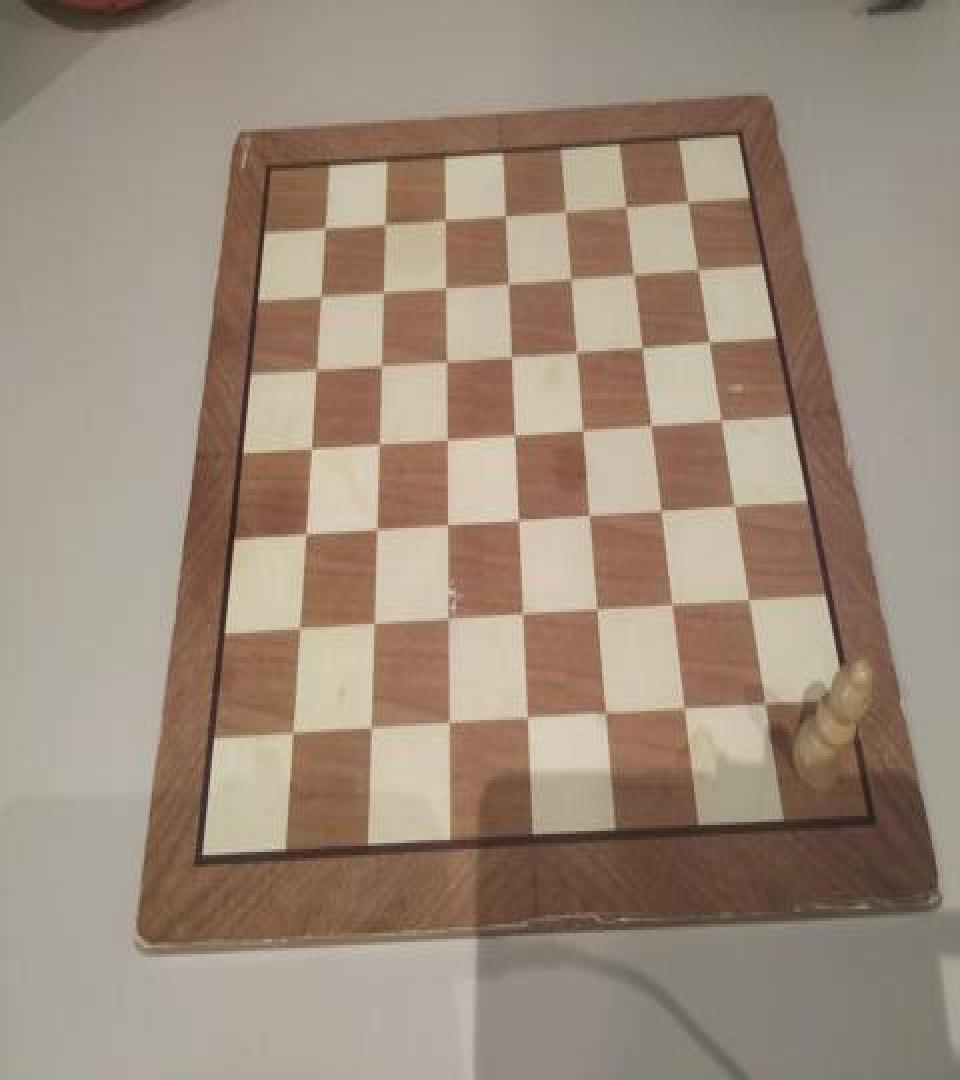xcorner: (298, 430, 320, 464), (366, 424, 388, 458), (433, 268, 455, 302), (433, 340, 455, 374), (493, 196, 515, 230), (496, 262, 518, 296), (506, 502, 528, 536), (578, 496, 600, 530), (710, 400, 732, 434), (304, 351, 326, 384), (285, 612, 307, 645), (278, 717, 300, 750), (371, 273, 393, 306), (368, 345, 390, 378), (356, 713, 378, 746), (433, 201, 455, 234), (434, 420, 456, 453), (434, 507, 456, 540), (434, 603, 456, 636), (435, 708, 457, 741), (499, 336, 521, 369), (510, 597, 532, 630), (554, 192, 576, 225), (559, 258, 581, 291), (585, 592, 607, 625), (614, 186, 636, 219), (640, 405, 662, 438), (650, 492, 672, 525), (661, 588, 683, 621), (674, 693, 696, 726), (675, 181, 697, 214), (697, 321, 719, 354), (723, 486, 745, 519), (738, 582, 760, 615), (754, 689, 776, 722), (313, 212, 335, 244), (309, 278, 331, 310), (292, 518, 314, 550), (373, 206, 395, 238), (363, 512, 385, 544), (359, 608, 381, 640), (502, 416, 524, 448), (514, 704, 536, 736), (565, 332, 587, 364), (571, 410, 593, 442), (594, 698, 616, 730), (622, 254, 644, 286), (631, 326, 653, 358), (686, 248, 708, 280)
